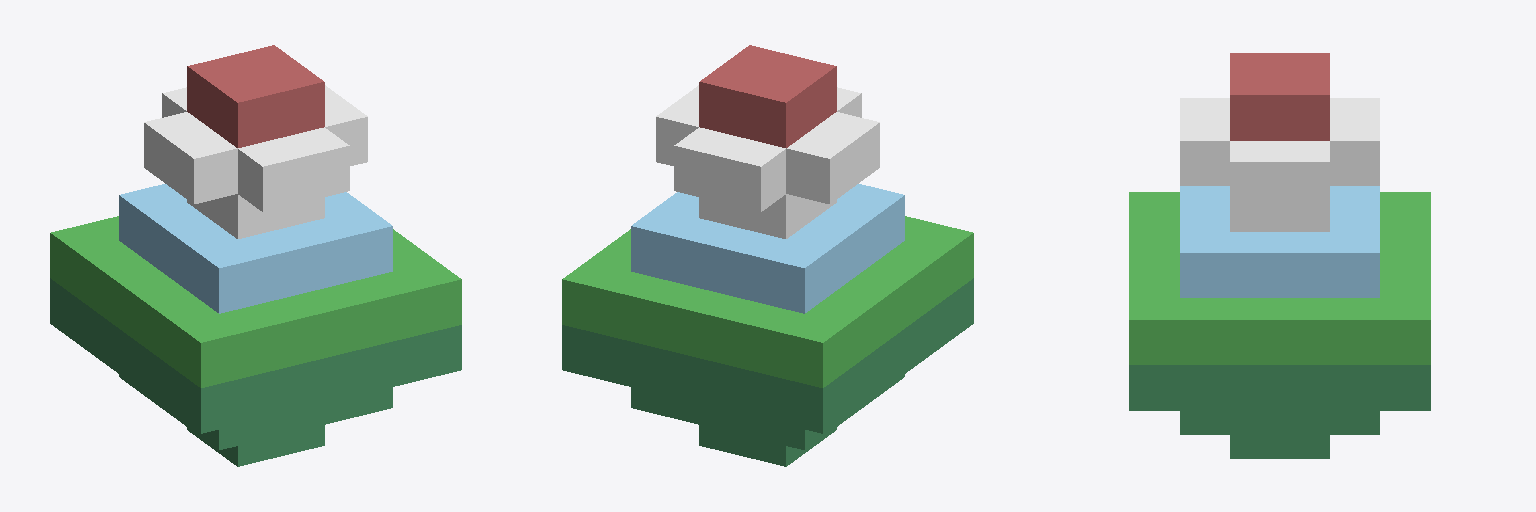
3 views of the same model, side by side, from view 1: azimuth 30°, elevation 25°; view 2: azimuth 150°, elevation 25°; view 3: azimuth 270°, elevation 25° (orthographic).
Parts seen in each view (by area): view 1: object 1; view 2: object 1; view 3: object 1.
Part boxes in pixels (bbox=[...]): object 1: bbox=[50, 45, 461, 466]; object 1: bbox=[562, 45, 973, 466]; object 1: bbox=[1129, 53, 1430, 458].
Bounding box in the file's own units: 0.6 × 0.8 × 0.6.
Materials: 1 (1 with a texture image).